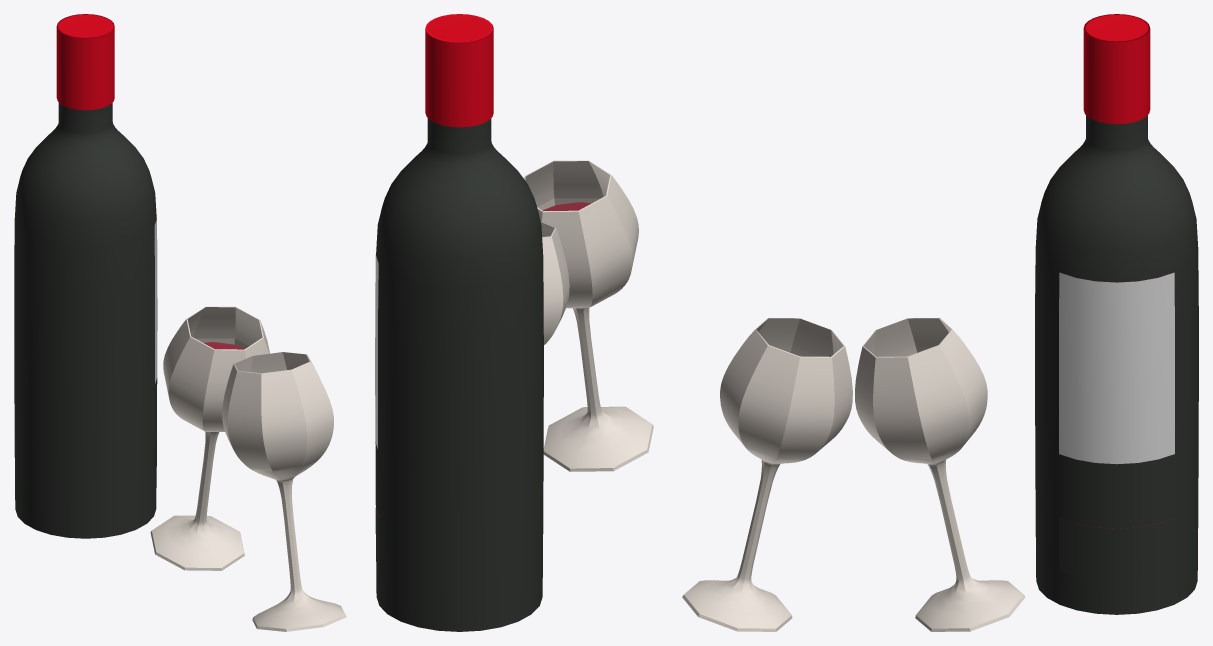
Rendered from Wine.fbx.
3 renders of one model, left to right at view 1: azimuth 30°, elevation 25°; view 2: azimuth 150°, elevation 25°; view 3: azimuth 270°, elevation 25°, orthographic. The views are drawn at different scales.
Parts seen in each view (by area): view 1: Wine; view 2: Wine; view 3: Wine.
Boxes of the visible parts, left/top/right/bottom form: Wine: left=14, top=14, right=346, bottom=631; Wine: left=375, top=14, right=653, bottom=631; Wine: left=682, top=14, right=1198, bottom=631.
Bounding box in the file's own units: 21.51 × 63.03 × 52.41.
